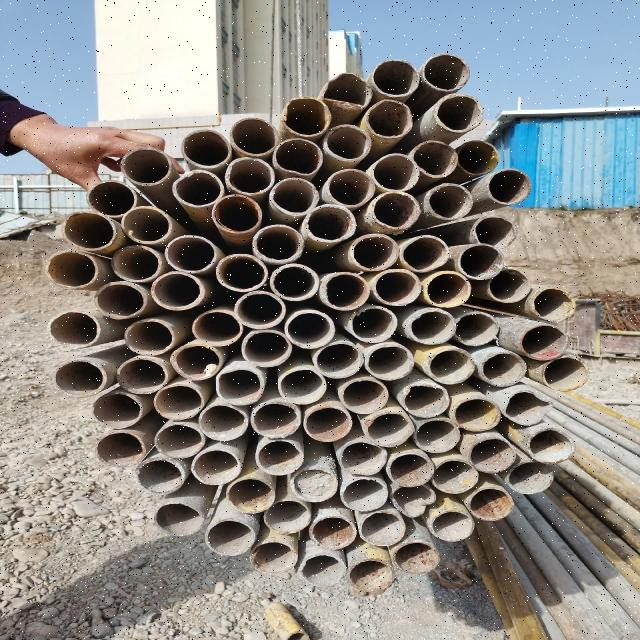pipe: (164, 232, 224, 274), (91, 389, 147, 431), (59, 212, 120, 250), (431, 94, 487, 134), (152, 270, 208, 310), (178, 129, 230, 171), (112, 241, 164, 283), (218, 366, 270, 408), (319, 71, 373, 111), (172, 168, 226, 208), (211, 192, 265, 232), (267, 262, 321, 302), (348, 232, 400, 273), (426, 347, 478, 388), (267, 178, 323, 216), (336, 439, 392, 477), (319, 270, 372, 310), (242, 329, 296, 368), (280, 96, 332, 136), (284, 310, 336, 350), (153, 381, 205, 421), (225, 475, 277, 515), (53, 359, 109, 396), (140, 454, 188, 497), (46, 250, 100, 288), (48, 310, 102, 348), (312, 342, 366, 380), (524, 427, 578, 465), (94, 431, 148, 469), (277, 366, 327, 407), (122, 318, 174, 357), (348, 557, 400, 596), (94, 282, 150, 318), (502, 390, 558, 426), (253, 222, 306, 260), (193, 308, 246, 346), (119, 356, 172, 394), (388, 451, 441, 489), (422, 54, 472, 94), (372, 58, 422, 98), (410, 138, 460, 178), (398, 232, 448, 272), (252, 399, 302, 439), (121, 206, 175, 243), (364, 101, 416, 139), (123, 148, 175, 186), (222, 156, 274, 194), (540, 357, 592, 395), (348, 306, 400, 344), (153, 501, 205, 539), (249, 537, 301, 575), (217, 252, 264, 294), (198, 403, 248, 442), (172, 345, 226, 381), (452, 310, 500, 350), (428, 458, 481, 494), (308, 515, 361, 551), (205, 519, 258, 555), (228, 118, 278, 156), (326, 170, 376, 208), (364, 411, 414, 449), (358, 511, 408, 549), (306, 206, 358, 242), (89, 180, 141, 216), (408, 308, 460, 344), (401, 382, 453, 418), (305, 403, 353, 442), (188, 450, 240, 486), (299, 553, 352, 588), (428, 183, 478, 220), (484, 268, 534, 305), (367, 344, 417, 381), (425, 271, 473, 309), (456, 245, 506, 281), (520, 326, 570, 362), (338, 378, 388, 414), (256, 439, 306, 475), (264, 499, 314, 535), (414, 416, 460, 455), (372, 153, 419, 191), (373, 192, 421, 229), (476, 352, 528, 386), (424, 509, 476, 543), (393, 539, 445, 573), (454, 397, 504, 432), (375, 268, 421, 306), (470, 437, 516, 475), (154, 422, 200, 460), (470, 485, 516, 523), (323, 124, 371, 160), (454, 138, 499, 176), (484, 168, 534, 202), (508, 462, 558, 496), (532, 285, 578, 321), (290, 468, 336, 504), (470, 216, 518, 249), (394, 483, 439, 518), (341, 477, 386, 512)
